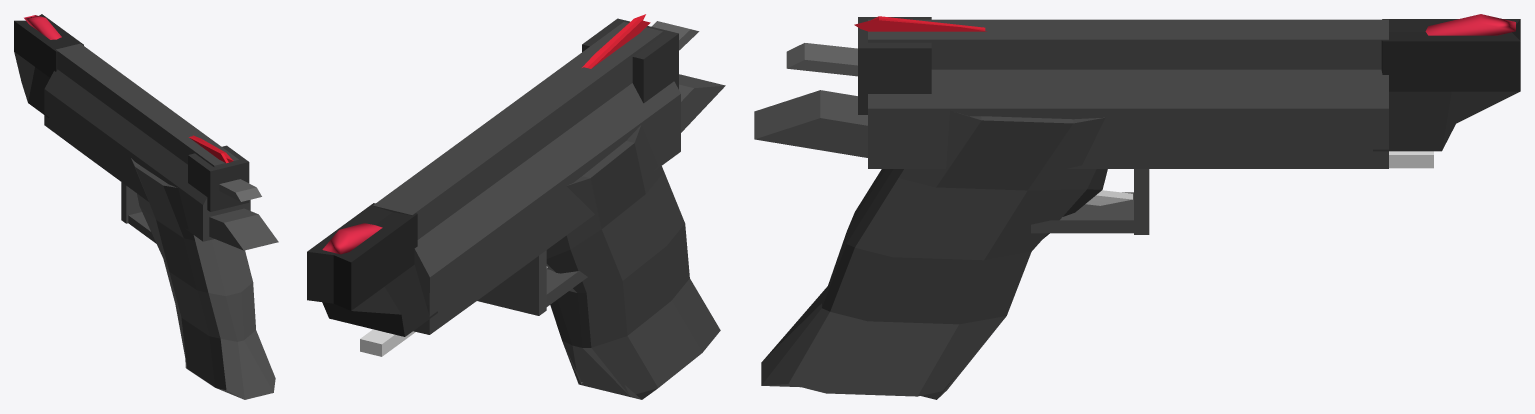
The model's file is DesertEagle.fbx.
3 views of the same model, side by side, from view 1: azimuth 30°, elevation 25°; view 2: azimuth 150°, elevation 25°; view 3: azimuth 270°, elevation 25° (orthographic). The views are drawn at different scales.
Visible parts, largest first — view 1: Cube, Cube.002, Cube.001, Cube.003, Cube.011, Cube.008, Cube.004, Cube.010, Cube.005, Cube.009; view 2: Cube, Cube.002, Cube.001, Cube.003, Cube.004, Cube.011, Cube.010, Cube.009, Cube.005, Cube.012, Cube.008; view 3: Cube, Cube.002, Cube.001, Cube.011, Cube.003, Cube.005, Cube.008, Cube.010, Cube.009, Cube.004, Cube.012.
Boxes of the visible parts, x1,y1,x2,y2 form: Cube: (44, 43, 250, 241); Cube.002: (131, 158, 275, 399); Cube.001: (14, 14, 83, 117); Cube.003: (188, 145, 249, 211); Cube.011: (209, 208, 278, 250); Cube.008: (219, 179, 261, 201); Cube.004: (121, 182, 141, 223); Cube.010: (24, 15, 61, 39); Cube.005: (128, 212, 156, 243); Cube.009: (189, 135, 233, 163); Cube: (373, 22, 680, 334); Cube.002: (546, 125, 720, 399); Cube.001: (307, 203, 437, 336); Cube.003: (582, 18, 678, 103); Cube.004: (477, 250, 546, 315); Cube.011: (679, 74, 725, 132); Cube.010: (322, 223, 382, 254); Cube.009: (582, 14, 650, 68); Cube.005: (546, 269, 587, 306); Cube.012: (360, 329, 415, 356); Cube.008: (651, 21, 699, 50); Cube: (868, 19, 1388, 168); Cube.002: (761, 111, 1107, 399); Cube.001: (1373, 19, 1520, 151); Cube.011: (754, 90, 867, 157); Cube.003: (858, 17, 931, 114); Cube.005: (1031, 192, 1133, 233); Cube.008: (786, 43, 857, 76); Cube.010: (1425, 14, 1515, 35); Cube.009: (854, 16, 986, 31); Cube.004: (1134, 169, 1149, 234); Cube.012: (1389, 151, 1433, 168).
Bounding box in the file's own units: 123 × 451 × 857.
